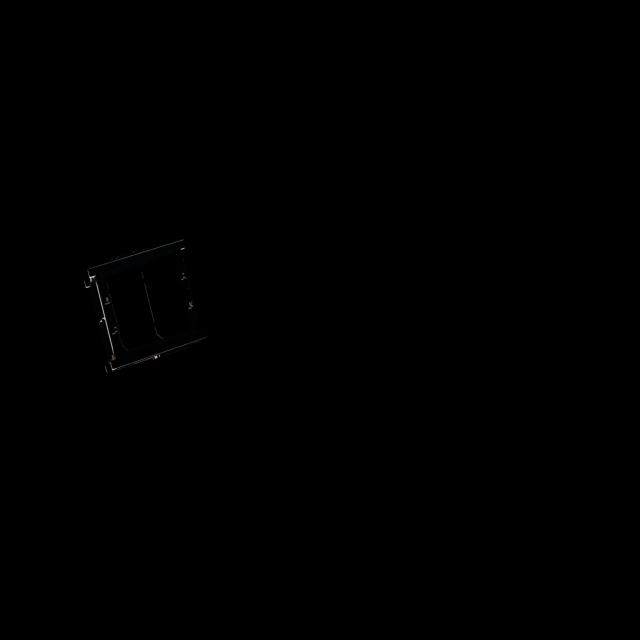medium_debris: (77, 238, 209, 380)
